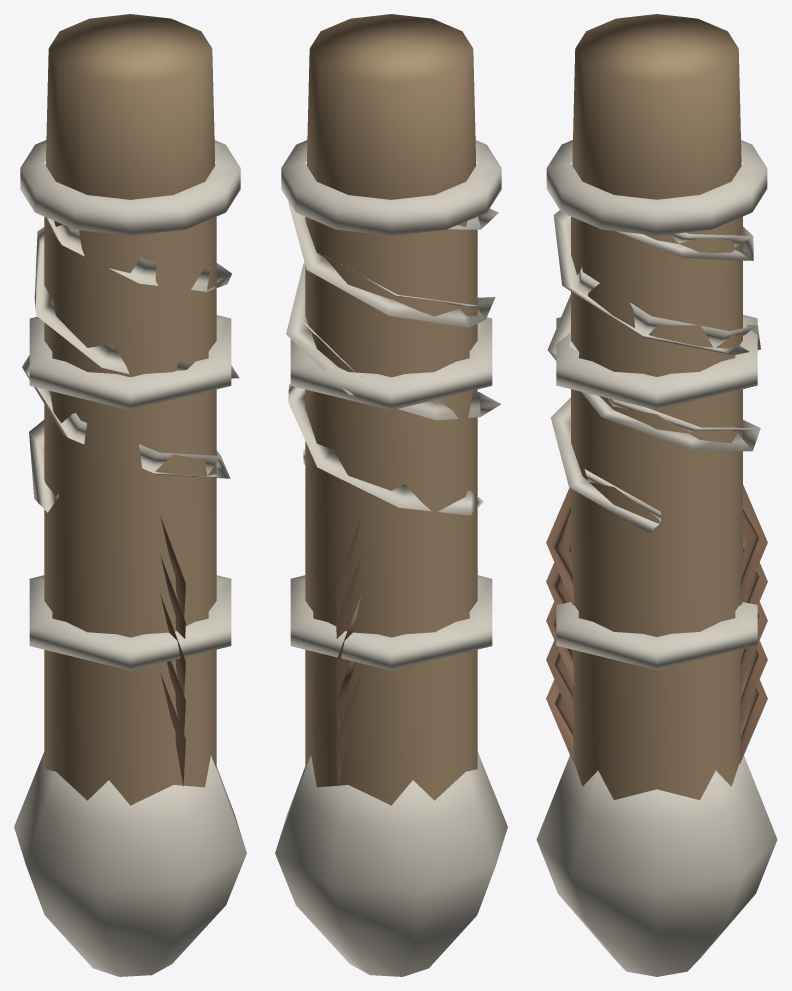
File: handle_primordial.glb
The picture shows the model from 3 angles, left to right: view 1: azimuth 30°, elevation 25°; view 2: azimuth 150°, elevation 25°; view 3: azimuth 270°, elevation 25°; orthographic projection.
Visible parts, largest first — view 1: handle_primordial; view 2: handle_primordial; view 3: handle_primordial.
Boxes of the visible parts, x1,y1,x2,y2 form: handle_primordial: [14, 14, 246, 976]; handle_primordial: [275, 14, 507, 976]; handle_primordial: [536, 14, 777, 976].
Size of the model in its own units: 0.1008 by 0.42 by 0.1008.
